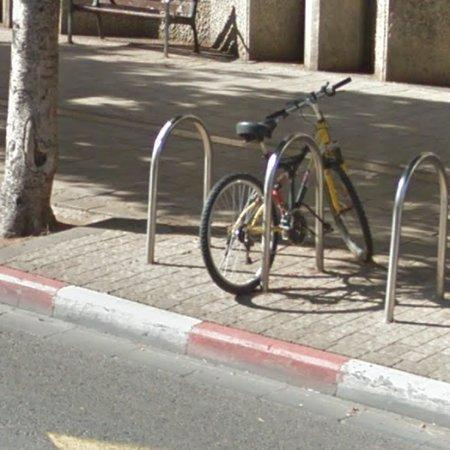bicycles: (236, 78, 373, 265), (201, 174, 264, 296)
